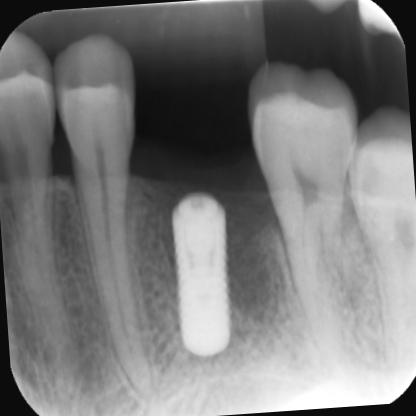ITI: (162, 184, 242, 367)
